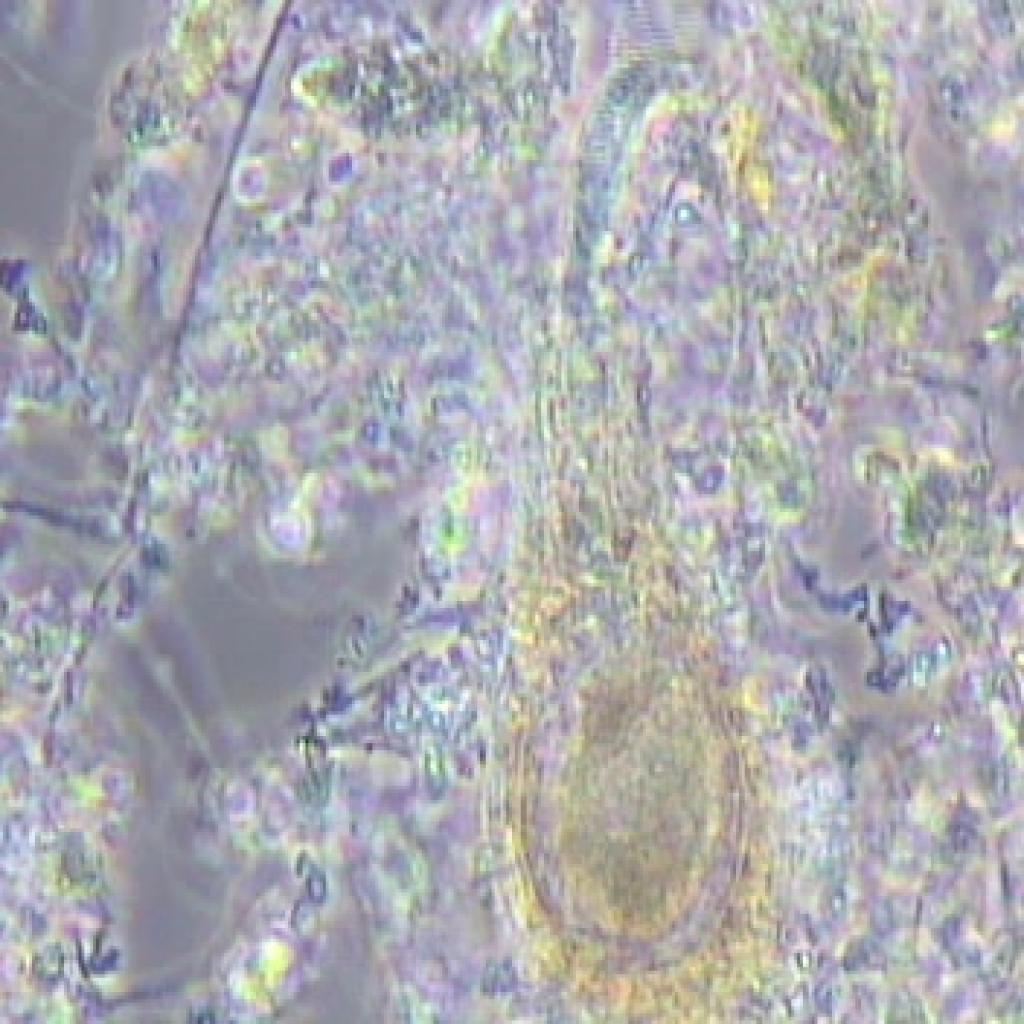Chaetopira: (492, 87, 782, 1001)
